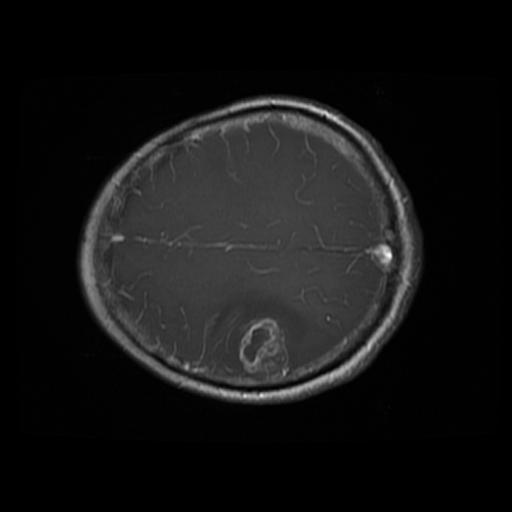glioma: (211, 298, 303, 379)
